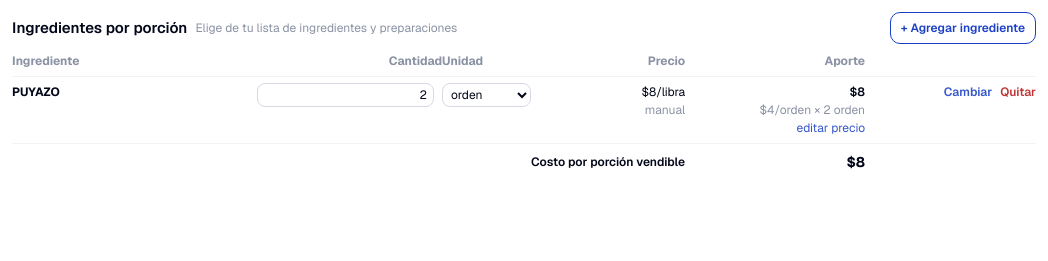
Test: PUYAZO: lb price, orden line › a price in a unit that does not convert opens the question, not an error
Expected: the dropdown named "Unidad de la línea" is shown, [442, 83, 531, 107]
Click the button "editar precio" at (775, 128), box [685, 119, 865, 137]
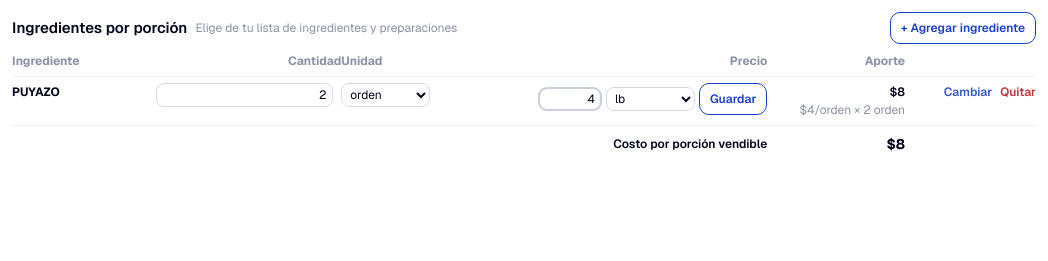
Replace the text in the 2nd field with placeholder "Precio" with "3" at (570, 99), box [538, 87, 602, 111]
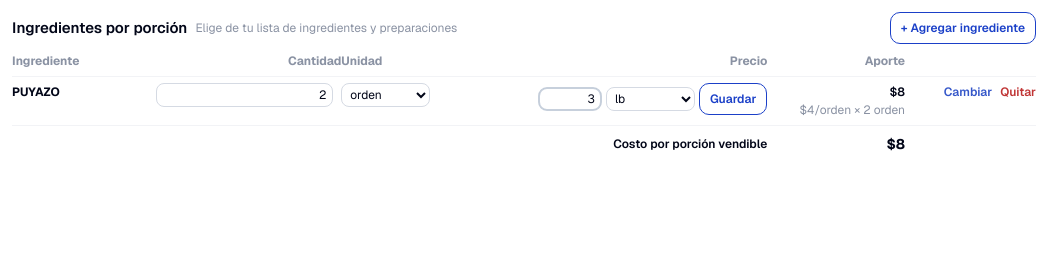
Select "orden" in the dropdown named "Unidad del precio" at (650, 99), box [606, 87, 695, 111]
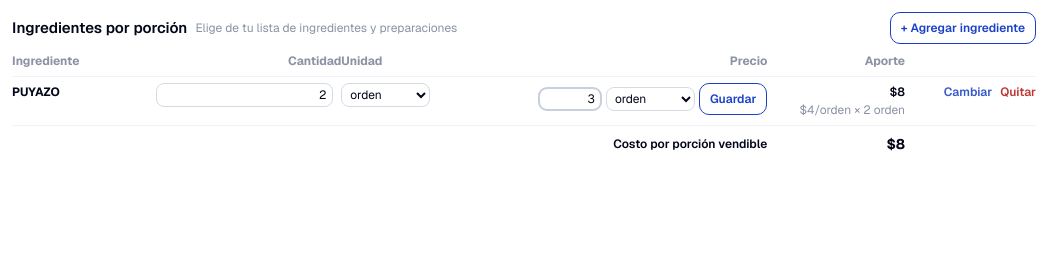
Click the button "Guardar" at (733, 99), box [699, 83, 767, 115]
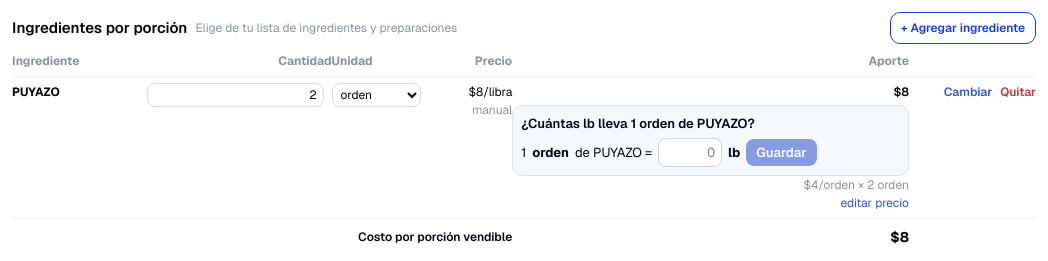
Expected: the text with test id "unit-question" reads "¿Cuántas lb lleva 1 orden de PUYAZO?", [521, 115, 755, 132]
